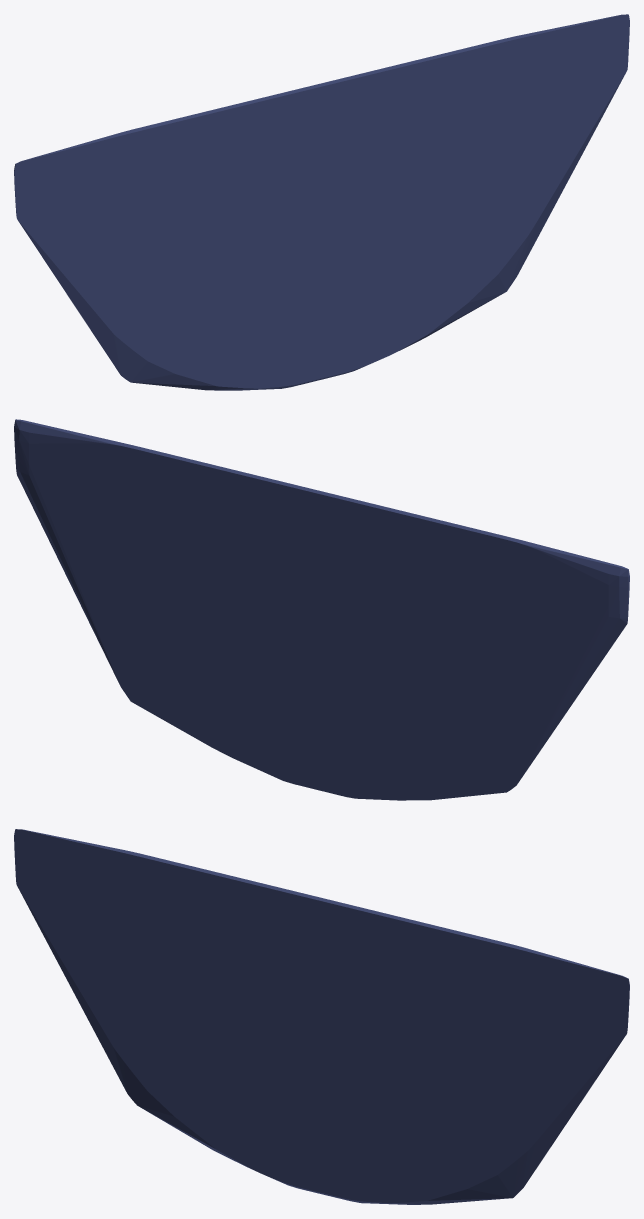
Rendered from pelvis_part_16.obj.
3 views of the same model, one above another, from view 1: azimuth 30°, elevation 25°; view 2: azimuth 150°, elevation 25°; view 3: azimuth 330°, elevation 25° (orthographic).
Size of the model in its own units: 0.1231 by 0.0567 by 0.00119.
